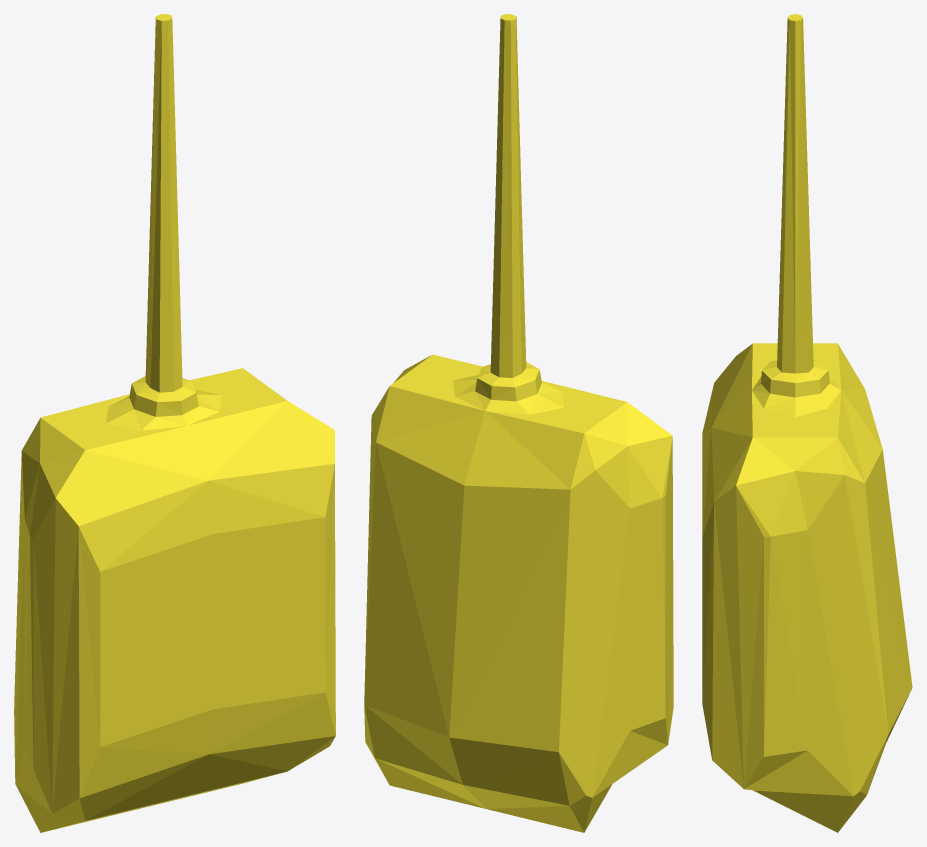
File: WW_Turret_100mm_Single.fbx
3 renders of one model, left to right at view 1: azimuth 30°, elevation 25°; view 2: azimuth 150°, elevation 25°; view 3: azimuth 270°, elevation 25°, orthographic. The views are drawn at different scales.
Visible parts, largest first — view 1: WW_Turret_100mm_Single.001; view 2: WW_Turret_100mm_Single.001; view 3: WW_Turret_100mm_Single.001.
Part boxes in pixels (x1,y1,x2,y2): WW_Turret_100mm_Single.001: (14, 14, 335, 832); WW_Turret_100mm_Single.001: (364, 14, 673, 832); WW_Turret_100mm_Single.001: (702, 14, 912, 832).
Bounding box in the file's own units: 4 × 10.49 × 2.6.
